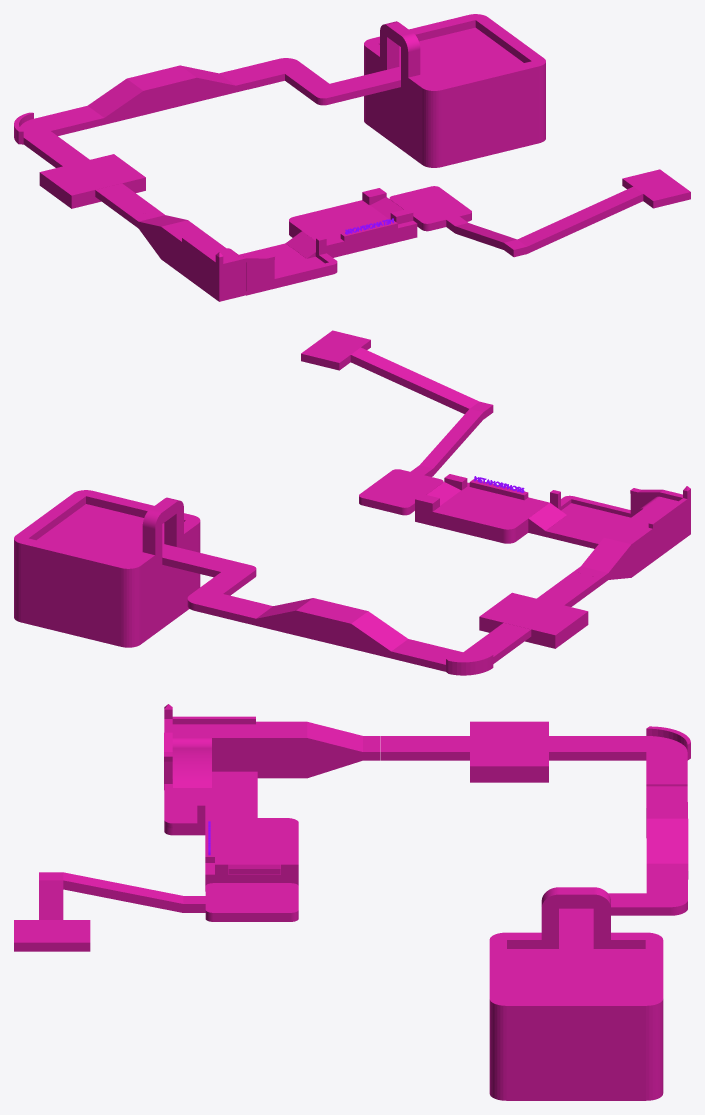
Rendered from trial.glb.
3 views of the same model, one above another, from view 1: azimuth 30°, elevation 25°; view 2: azimuth 150°, elevation 25°; view 3: azimuth 270°, elevation 25° (orthographic). The views are drawn at different scales.
Visible parts, largest first — view 1: Cube.002; view 2: Cube.002; view 3: Cube.002.
Boxes of the visible parts, x1,y1,x2,y2 form: Cube.002: (14,14,690,301); Cube.002: (14,330,690,675); Cube.002: (14,704,690,1100).
Bounding box in the file's own units: 80.02 × 17.83 × 78.02.
